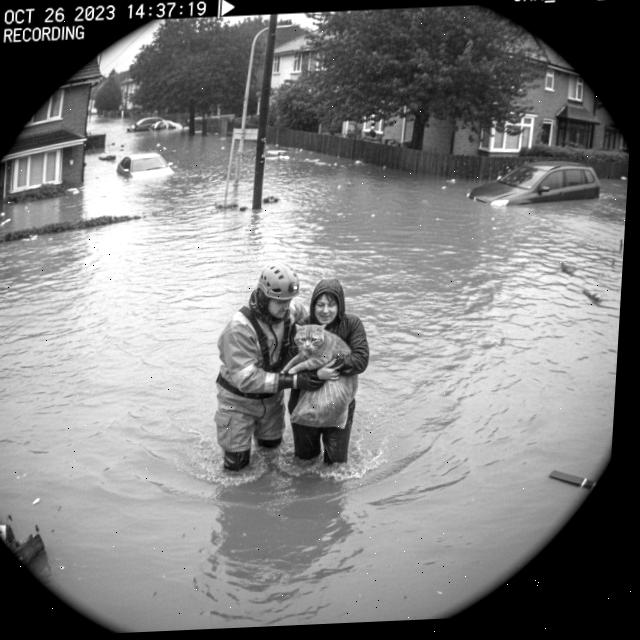cat: (288, 317, 369, 436)
civilian: (287, 265, 380, 473)
rescuer: (203, 251, 309, 481)
